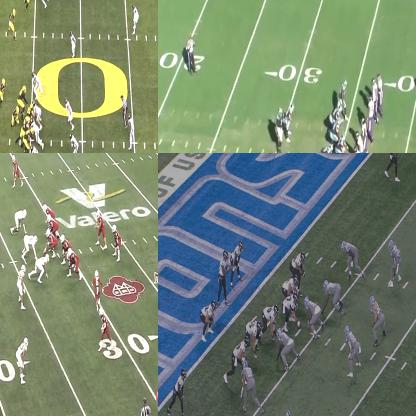CENTER: (286, 290, 301, 320), (46, 229, 56, 253), (334, 136, 345, 152)
DB: (387, 237, 404, 288), (17, 339, 29, 382), (18, 264, 26, 306), (128, 113, 135, 148), (68, 31, 76, 56), (133, 3, 138, 30), (37, 0, 50, 8)
LB: (240, 352, 257, 412), (345, 322, 362, 380), (341, 240, 364, 279), (370, 293, 385, 346), (31, 72, 42, 98), (65, 99, 74, 128), (68, 133, 79, 152)
QB: (219, 250, 230, 306), (96, 210, 105, 246), (276, 109, 284, 149)
SKILL: (226, 335, 251, 386), (231, 237, 246, 288), (202, 301, 217, 342), (98, 309, 112, 351), (174, 367, 186, 415), (110, 222, 122, 261), (92, 270, 104, 305), (389, 153, 404, 178), (10, 155, 21, 184), (286, 101, 295, 136), (340, 78, 347, 118), (8, 9, 16, 37), (0, 77, 7, 103), (27, 0, 35, 8)
